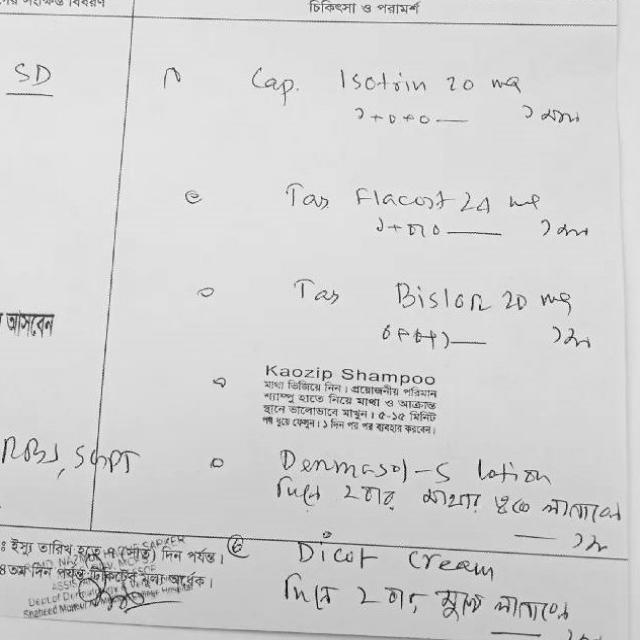medicine: (270, 442, 458, 488), (384, 276, 492, 322), (327, 59, 432, 102), (342, 179, 450, 217), (280, 541, 384, 572)
